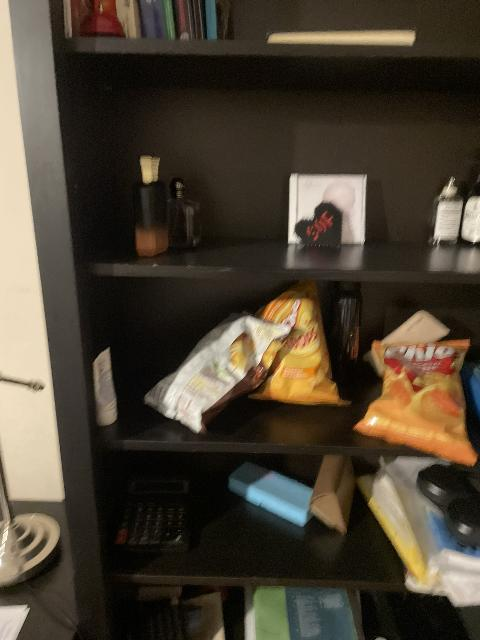Chio Cascaval 125g: (352, 339, 475, 467)
Chio Hula Hoops Cheese 70g: (248, 283, 350, 403)
Lays Beef Grilled Ribs 125g: (143, 310, 293, 435)
